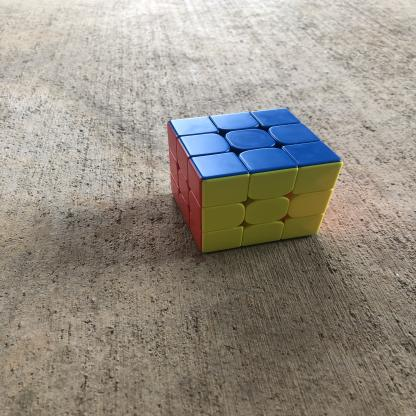SolvedCube: (150, 102, 350, 252)
